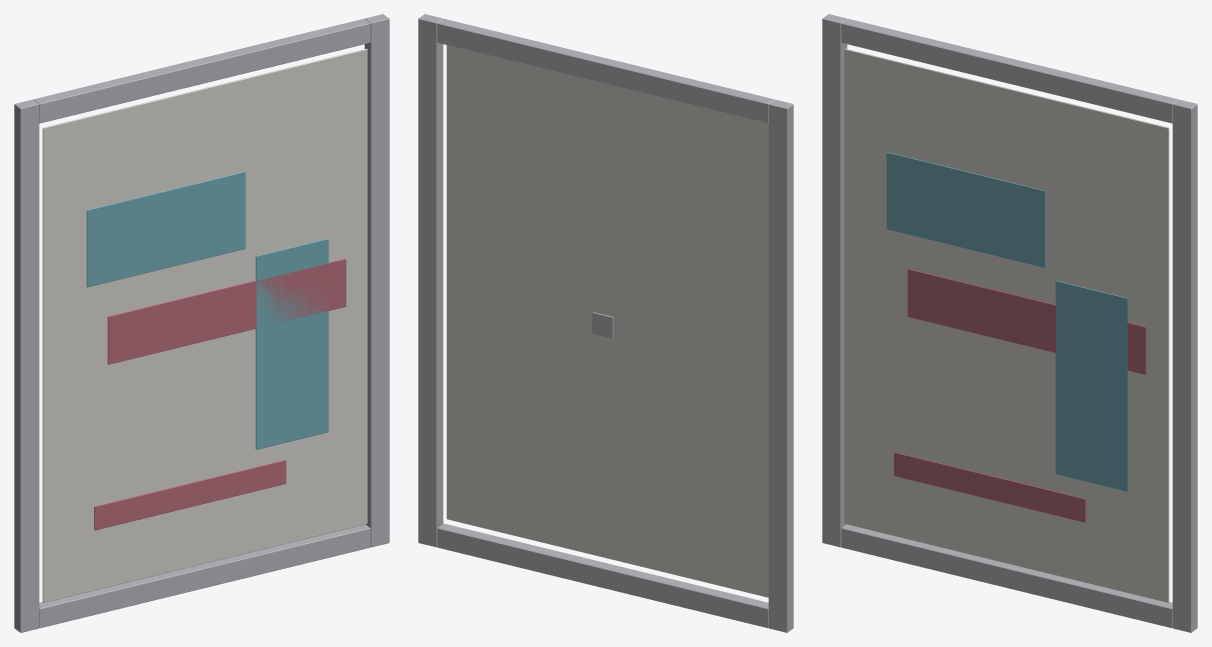
The model's file is prop_poster_frame_lg_01.glb.
3 views of the same model, side by side, from view 1: azimuth 30°, elevation 25°; view 2: azimuth 150°, elevation 25°; view 3: azimuth 330°, elevation 25° (orthographic).
Visible parts, largest first — view 1: prop_poster_frame_lg_01; view 2: prop_poster_frame_lg_01; view 3: prop_poster_frame_lg_01.
Boxes of the visible parts, left/top/right/bottom form: prop_poster_frame_lg_01: left=14, top=14, right=389, bottom=632; prop_poster_frame_lg_01: left=418, top=14, right=793, bottom=632; prop_poster_frame_lg_01: left=822, top=14, right=1197, bottom=632.
Size of the model in its own units: 0.7 by 0.95 by 0.025.
